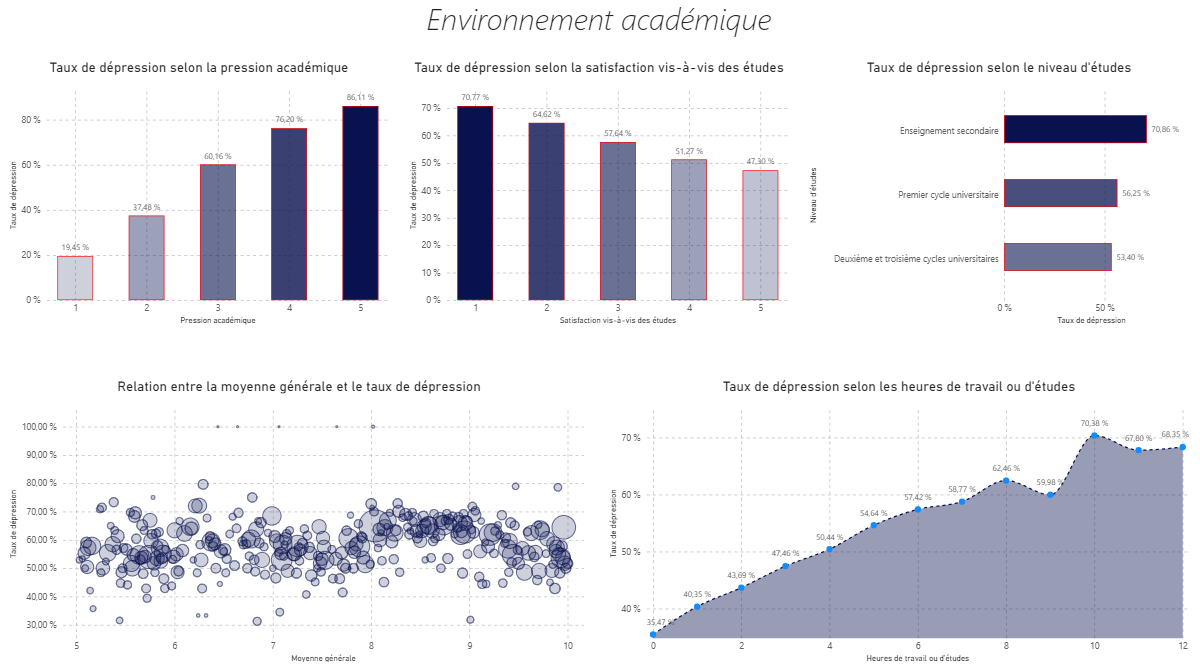

This screenshot's page, from the dashboard's own definition file:
{"tool":"powerbi","page":{"name":"Environnement académique","canvas":[1920,1080],"ordinal":2},"visuals":[{"type":"clusteredColumnChart","title":"Taux de dépression selon la pression académique","fields":{"Category":["Données des étudiants.Pression académique"],"Y":["Données des étudiants.Taux de dépression"]},"box":[0,86,640,454],"z":0},{"type":"clusteredColumnChart","title":"Taux de dépression selon la satisfaction vis-à-vis des études","fields":{"Category":["Données des étudiants.Satisfaction vis-à-vis des études"],"Y":["Données des étudiants.Taux de dépression"]},"box":[640,86,640,454],"z":1000},{"type":"clusteredBarChart","title":"Taux de dépression selon le niveau d''études","fields":{"Category":["Données des étudiants.Niveau d’études"],"Y":["Données des étudiants.Taux de dépression"]},"box":[1280,86,640,454],"z":2000},{"type":"scatterChart","title":"Relation entre la moyenne générale et le taux de  dépression","fields":{"Size":["Données des étudiants.Nombre total d'étudiants"],"X":["Données des étudiants.Moyenne générale"],"Y":["Données des étudiants.Taux de dépression"]},"box":[0,596,960,484],"z":3000},{"type":"lineChart","title":"Taux de dépression selon les heures de travail ou d''études","fields":{"Category":["Données des étudiants.Heures de travail ou d’études"],"Y":["Données des étudiants.Taux de dépression"]},"box":[960,596,960,484],"z":4000},{"type":"textbox","box":[0,0,1920,86],"z":5000}]}

Visuals, with their boxes in screenshot pixels (x1, y1, x2, y2), scaled from the page's 1920x1080 canvas onto the 1200x672 screenshot:
"Taux de dépression selon la pression académique" clusteredColumnChart: 0:54:400:336
"Taux de dépression selon la satisfaction vis-à-vis des études" clusteredColumnChart: 400:54:800:336
"Taux de dépression selon le niveau d''études" clusteredBarChart: 800:54:1199:336
"Relation entre la moyenne générale et le taux de  dépression" scatterChart: 0:371:600:671
"Taux de dépression selon les heures de travail ou d''études" lineChart: 600:371:1199:671
textbox: 0:0:1199:54
